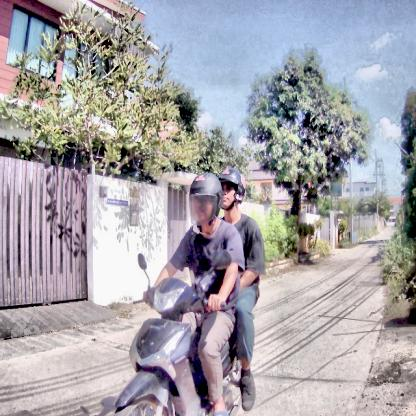wear: (190, 174, 221, 230), (221, 167, 246, 216)
